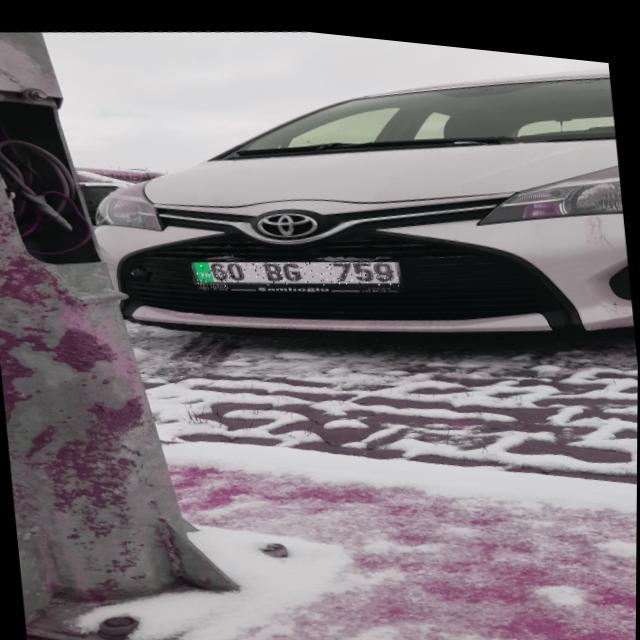license_plate: (192, 236, 401, 299)
